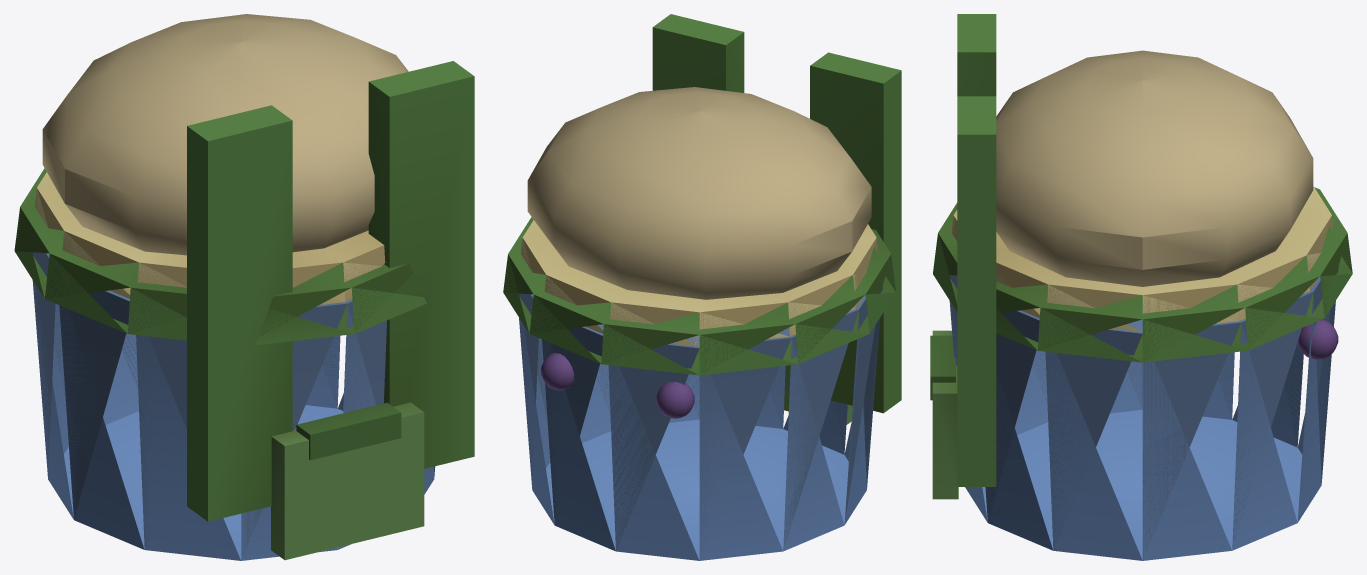
Rendered from p-boy-body.glb.
3 renders of one model, left to right at view 1: azimuth 30°, elevation 25°; view 2: azimuth 150°, elevation 25°; view 3: azimuth 270°, elevation 25°, orthographic. The views are drawn at different scales.
Parts seen in each view (by area): view 1: player_p-boy-body; view 2: player_p-boy-body; view 3: player_p-boy-body.
Part boxes in pixels (x1,y1,x2,y2): player_p-boy-body: (14, 14, 474, 560); player_p-boy-body: (503, 14, 901, 560); player_p-boy-body: (930, 14, 1352, 560).
Size of the model in its own units: 0.324 by 0.35 by 0.326.
